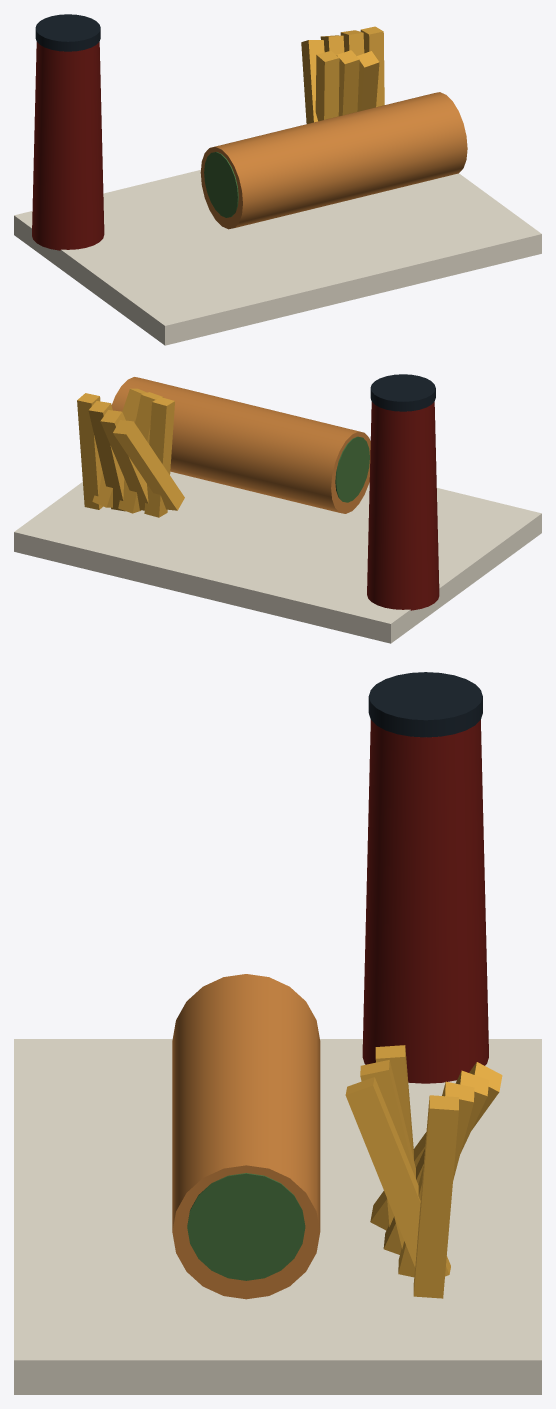
File: campaign-3.glb
The picture shows the model from 3 angles, top to bottom: view 1: azimuth 30°, elevation 25°; view 2: azimuth 150°, elevation 25°; view 3: azimuth 270°, elevation 25°; orthographic projection. The views are drawn at different scales.
Size of the model in its own units: 0.37 by 0.2065 by 0.25.
